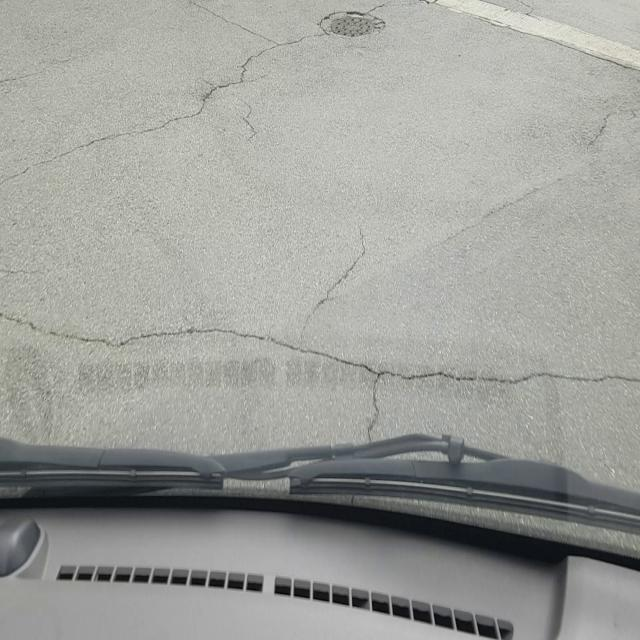Pothole: (317, 9, 387, 40)
